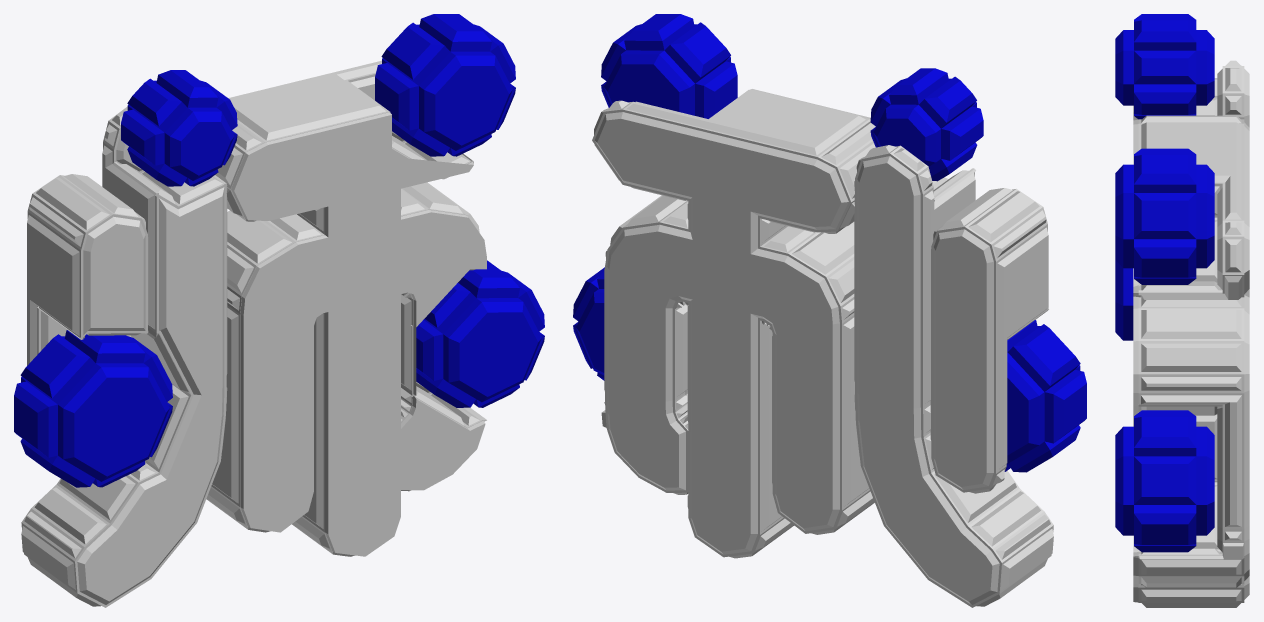
The model's file is Ch_China_师_01.fbx.
3 views of the same model, side by side, from view 1: azimuth 30°, elevation 25°; view 2: azimuth 150°, elevation 25°; view 3: azimuth 270°, elevation 25° (orthographic). The views are drawn at different scales.
Visible parts, largest first — view 1: sphere1; view 2: sphere1; view 3: sphere1.
Boxes of the visible parts, x1,y1,x2,y2 form: sphere1: (14,14,544,607); sphere1: (573,14,1086,607); sphere1: (1115,14,1249,607).
Size of the model in its own units: 1.09 by 1.05 by 0.2541.
